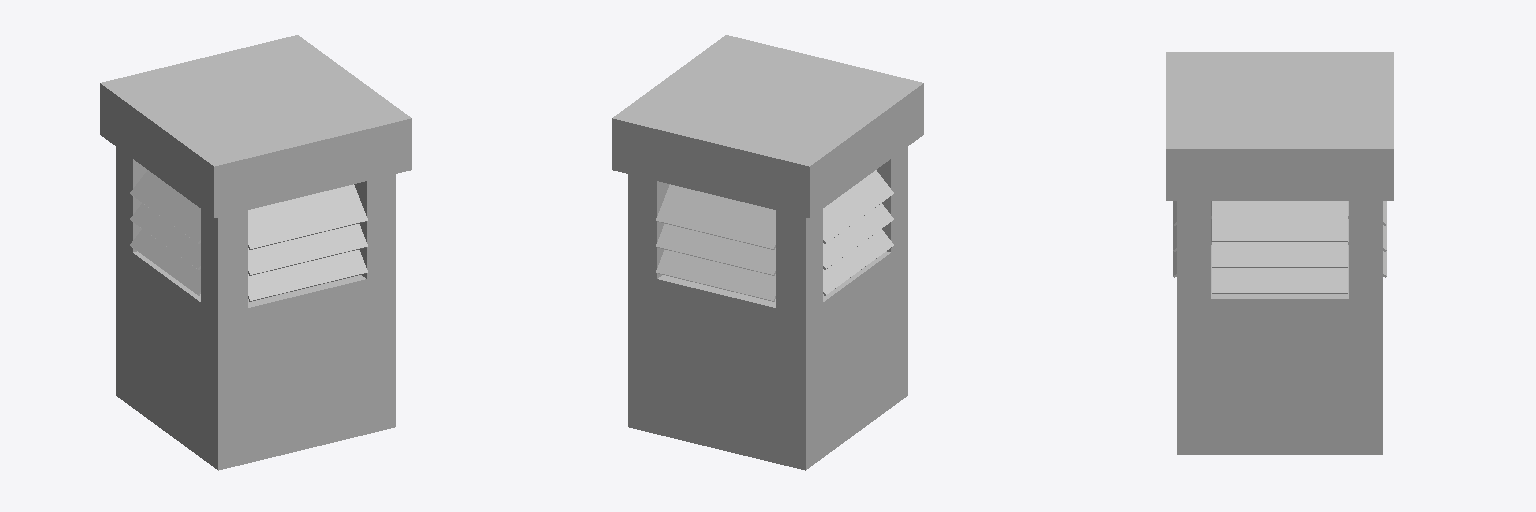
The model's file is lamp1.obj.
The picture shows the model from 3 angles: view 1: azimuth 30°, elevation 25°; view 2: azimuth 150°, elevation 25°; view 3: azimuth 270°, elevation 25°; orthographic projection.
Parts seen in each view (by area): view 1: Cube.009_Cube.004, Cube.015_Cube.006, Cube.027_Cube.007, Cube.014_Cube.005, Cube.013_Cube.005, Cube.025_Cube.007, Cube.026_Cube.007, Cube.016_Cube.007, Cube.010_Cube.005, Cube.017_Cube.007, Cube.018_Cube.007; view 2: Cube.009_Cube.004, Cube.015_Cube.006, Cube.024_Cube.007, Cube.010_Cube.005, Cube.011_Cube.005, Cube.022_Cube.007, Cube.023_Cube.007, Cube.016_Cube.007, Cube.014_Cube.005, Cube.017_Cube.007, Cube.018_Cube.007; view 3: Cube.015_Cube.006, Cube.009_Cube.004, Cube.021_Cube.007, Cube.019_Cube.007, Cube.020_Cube.007, Cube.011_Cube.005, Cube.013_Cube.005.
Part boxes in pixels (left/top/right/bottom): Cube.009_Cube.004: left=116, top=241, right=395, bottom=470; Cube.015_Cube.006: left=100, top=35, right=411, bottom=217; Cube.027_Cube.007: left=248, top=184, right=367, bottom=249; Cube.014_Cube.005: left=201, top=209, right=247, bottom=314; Cube.013_Cube.005: left=354, top=174, right=395, bottom=278; Cube.025_Cube.007: left=248, top=250, right=367, bottom=301; Cube.026_Cube.007: left=248, top=224, right=367, bottom=275; Cube.016_Cube.007: left=130, top=170, right=200, bottom=243; Cube.010_Cube.005: left=116, top=147, right=146, bottom=252; Cube.017_Cube.007: left=130, top=203, right=200, bottom=269; Cube.018_Cube.007: left=130, top=229, right=200, bottom=295; Cube.009_Cube.004: left=628, top=241, right=907, bottom=470; Cube.015_Cube.006: left=612, top=35, right=923, bottom=217; Cube.024_Cube.007: left=656, top=184, right=775, bottom=249; Cube.010_Cube.005: left=776, top=209, right=822, bottom=314; Cube.011_Cube.005: left=628, top=174, right=669, bottom=278; Cube.022_Cube.007: left=656, top=250, right=775, bottom=301; Cube.023_Cube.007: left=656, top=224, right=775, bottom=275; Cube.016_Cube.007: left=823, top=170, right=893, bottom=243; Cube.014_Cube.005: left=877, top=147, right=907, bottom=252; Cube.017_Cube.007: left=823, top=203, right=893, bottom=269; Cube.018_Cube.007: left=823, top=229, right=893, bottom=295; Cube.015_Cube.006: left=1166, top=52, right=1393, bottom=200; Cube.009_Cube.004: left=1177, top=245, right=1382, bottom=454; Cube.021_Cube.007: left=1212, top=201, right=1347, bottom=241; Cube.019_Cube.007: left=1212, top=268, right=1347, bottom=293; Cube.020_Cube.007: left=1212, top=242, right=1347, bottom=267; Cube.011_Cube.005: left=1349, top=201, right=1382, bottom=298; Cube.013_Cube.005: left=1177, top=201, right=1210, bottom=298.
Bounding box in the file's own units: 0.8 × 1.2 × 0.8.